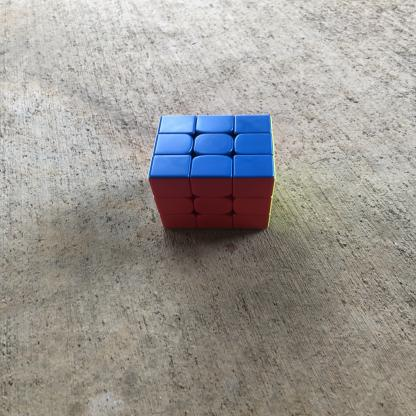SolvedCube: (140, 100, 292, 248)
